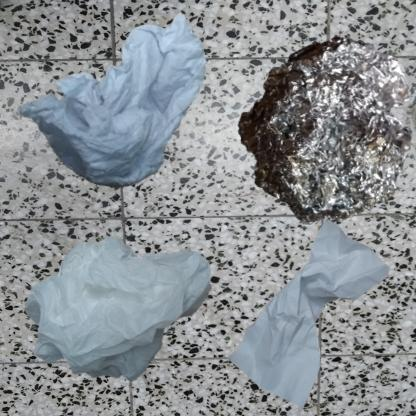aluminio: (213, 10, 416, 265)
bolsa: (10, 213, 249, 416)
papel: (213, 213, 407, 416), (10, 10, 219, 198)
